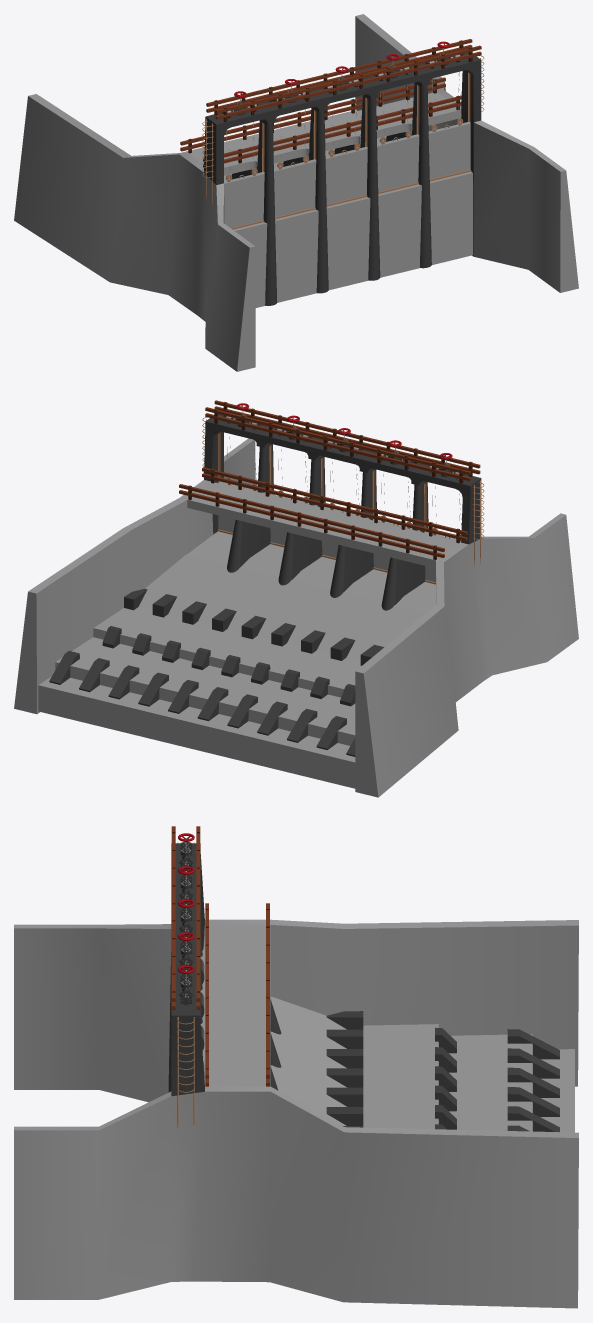
Rendered from dam1.glb.
The picture shows the model from 3 angles, top to bottom: view 1: azimuth 30°, elevation 25°; view 2: azimuth 150°, elevation 25°; view 3: azimuth 270°, elevation 25°; orthographic projection. The views are drawn at different scales.
Parts seen in each view (by area): view 1: Side Pillar Base, Bottom Base, Dam Door, Pillar Base, Walls, Engine On Top; view 2: Side Pillar Base, Bottom Base, Bottom Rocks, Walls, Pillar Base, Dam Door, Engine On Top; view 3: Side Pillar Base, Bottom Base, Bottom Rocks, Walls, Engine On Top, Pillar Base, Side Ladder.
Part boxes in pixels (box(x1,y1,x2,y2)): Side Pillar Base: box(14, 14, 578, 371); Bottom Base: box(180, 110, 472, 307); Dam Door: box(224, 61, 470, 227); Pillar Base: box(231, 82, 431, 305); Walls: box(180, 39, 481, 167); Engine On Top: box(222, 41, 461, 115); Side Pillar Base: box(14, 414, 578, 797); Bottom Base: box(38, 529, 435, 788); Bottom Rocks: box(49, 588, 384, 756); Walls: box(179, 400, 480, 559); Pillar Base: box(227, 443, 428, 610); Dam Door: box(218, 416, 461, 582); Engine On Top: box(225, 403, 464, 477); Side Pillar Base: box(14, 843, 578, 1308); Bottom Base: box(270, 997, 574, 1132); Bottom Rocks: box(326, 1011, 559, 1132); Walls: box(171, 826, 269, 1086); Engine On Top: box(178, 833, 194, 1005); Pillar Base: box(168, 935, 281, 1092); Side Ladder: box(177, 842, 194, 1127).
Size of the model in its own units: 93.63 by 52.88 by 94.41.
